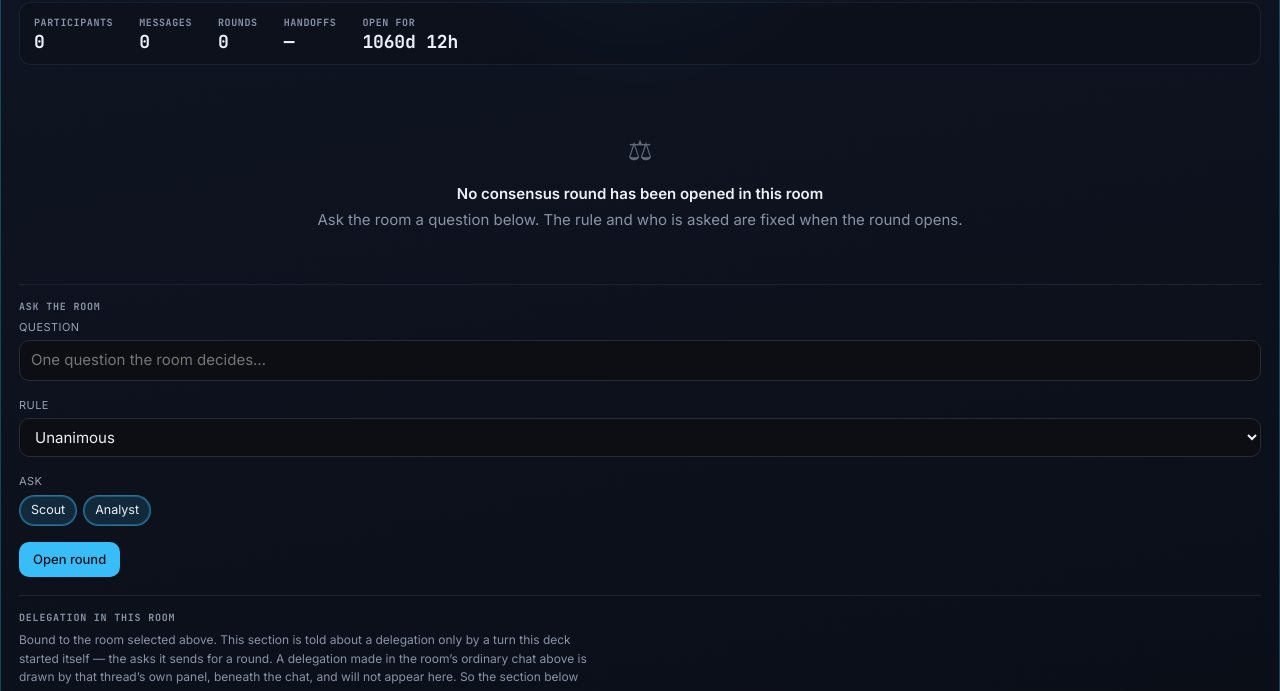
Test: Group room · what the delegation is and is not connected to › names the ask that reported it, and the round that ask belonged to
(page scrolled)
In the field labelled "Question": (640, 361) [19,340,1261,381], type "Ship the redesign this week?"
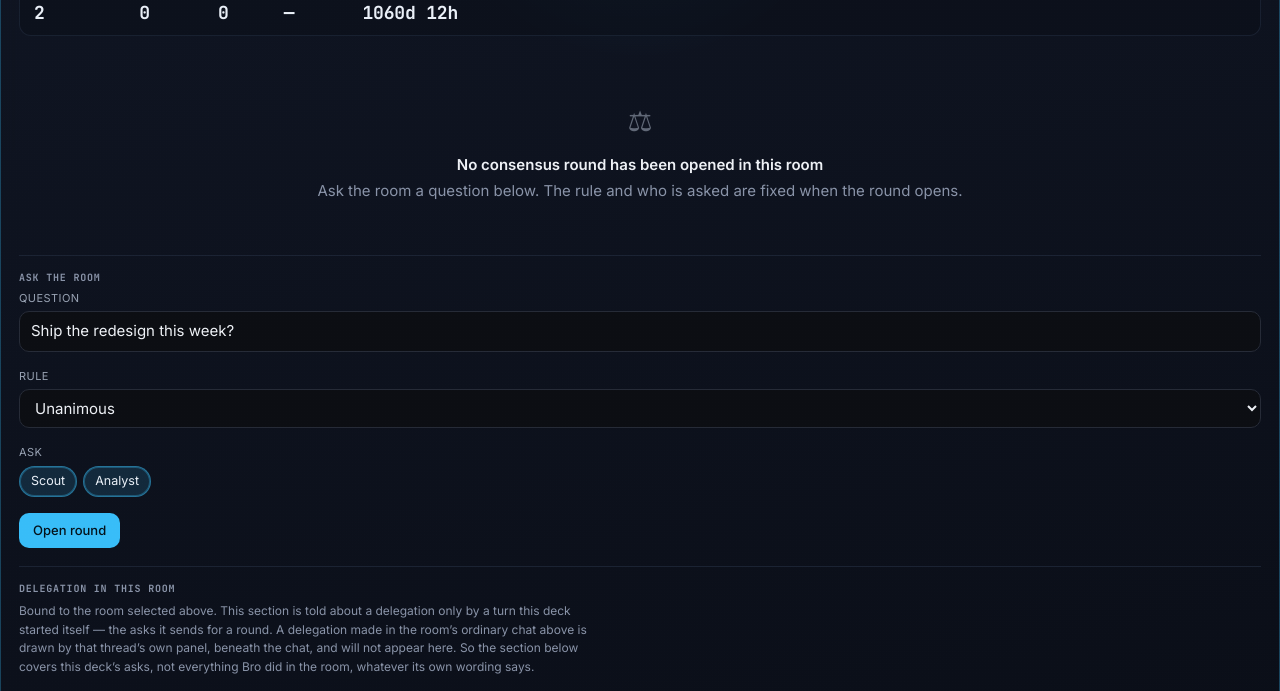
Click the button "Open round": click(70, 530) [19,513,120,548]
(page scrolled)
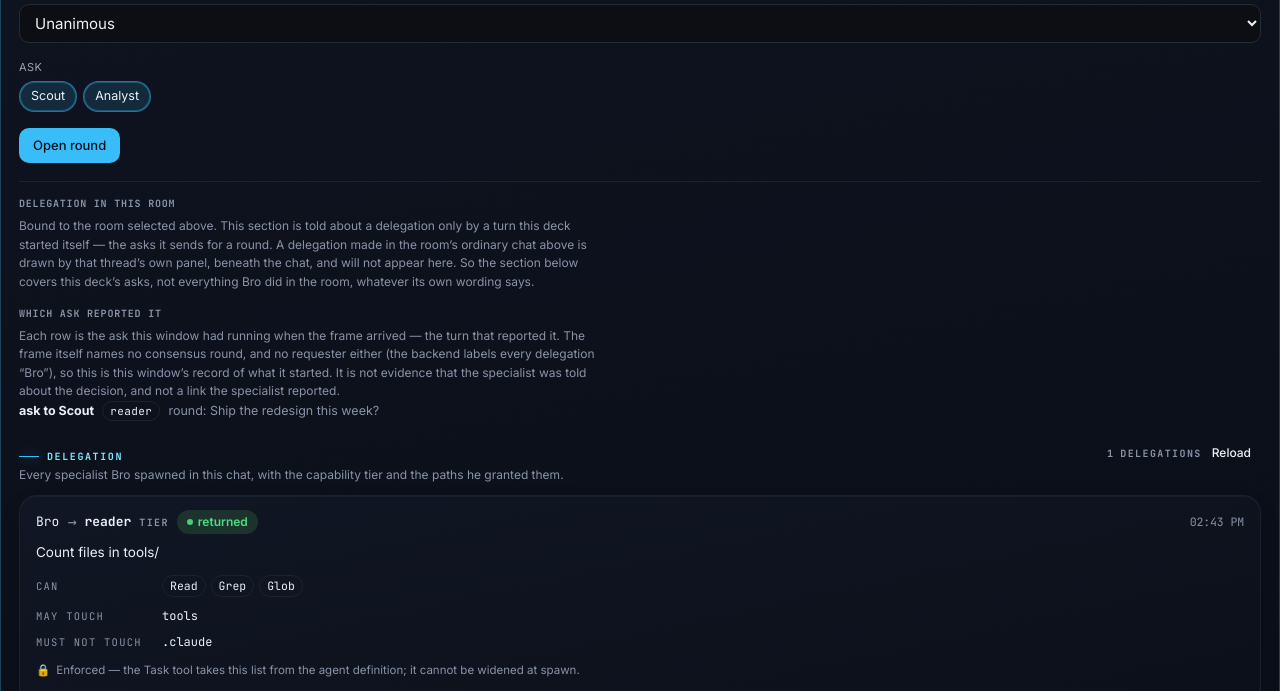
Expected: the text "ask to Scout" is shown, [19,402,94,421]
Expected: the text "reader" next to "round: Ship the redesign this week?" is shown, [110,404,152,418]
